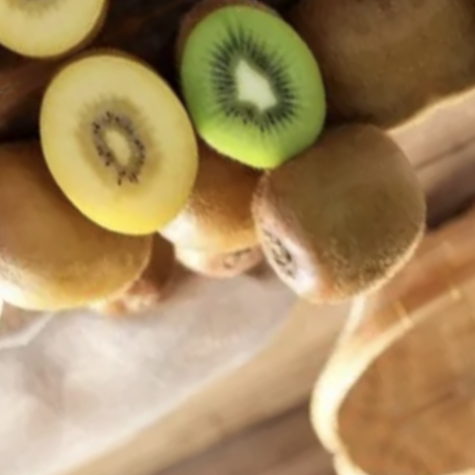kiwi: (218, 103, 469, 339), (0, 68, 195, 371)
